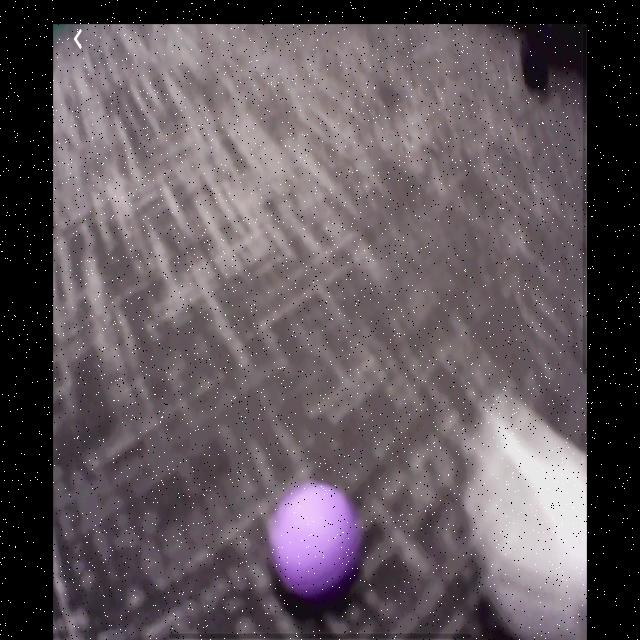ball: (271, 477, 356, 604)
